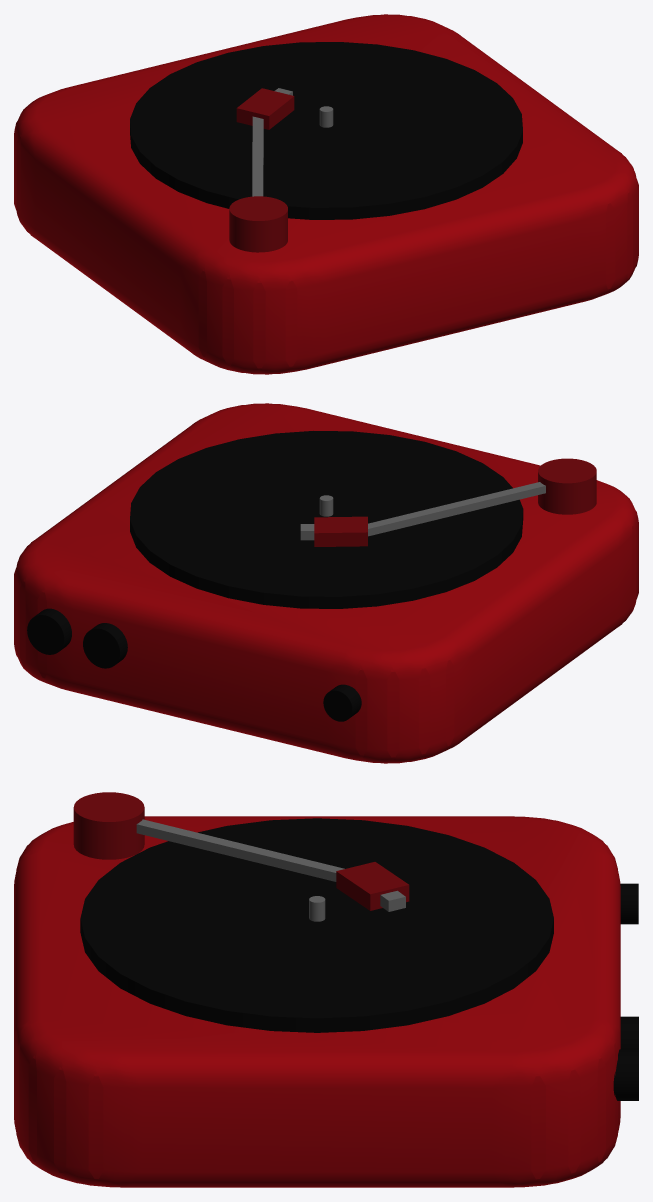
Rendered from turntable.fbx.
The picture shows the model from 3 angles, top to bottom: view 1: azimuth 30°, elevation 25°; view 2: azimuth 150°, elevation 25°; view 3: azimuth 270°, elevation 25°; orthographic projection. The views are drawn at different scales.
Parts seen in each view (by area): view 1: Cylinder; view 2: Cylinder; view 3: Cylinder.
Boxes of the visible parts, x1,y1,x2,y2 form: Cylinder: (14, 14, 638, 374); Cylinder: (14, 403, 638, 763); Cylinder: (14, 792, 638, 1187).
Size of the model in its own units: 200 by 62.19 by 206.
